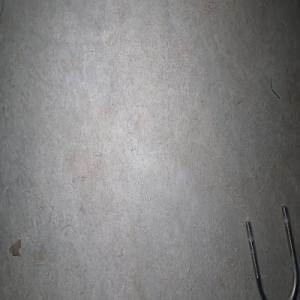ClampPart: (244, 203, 300, 300)
